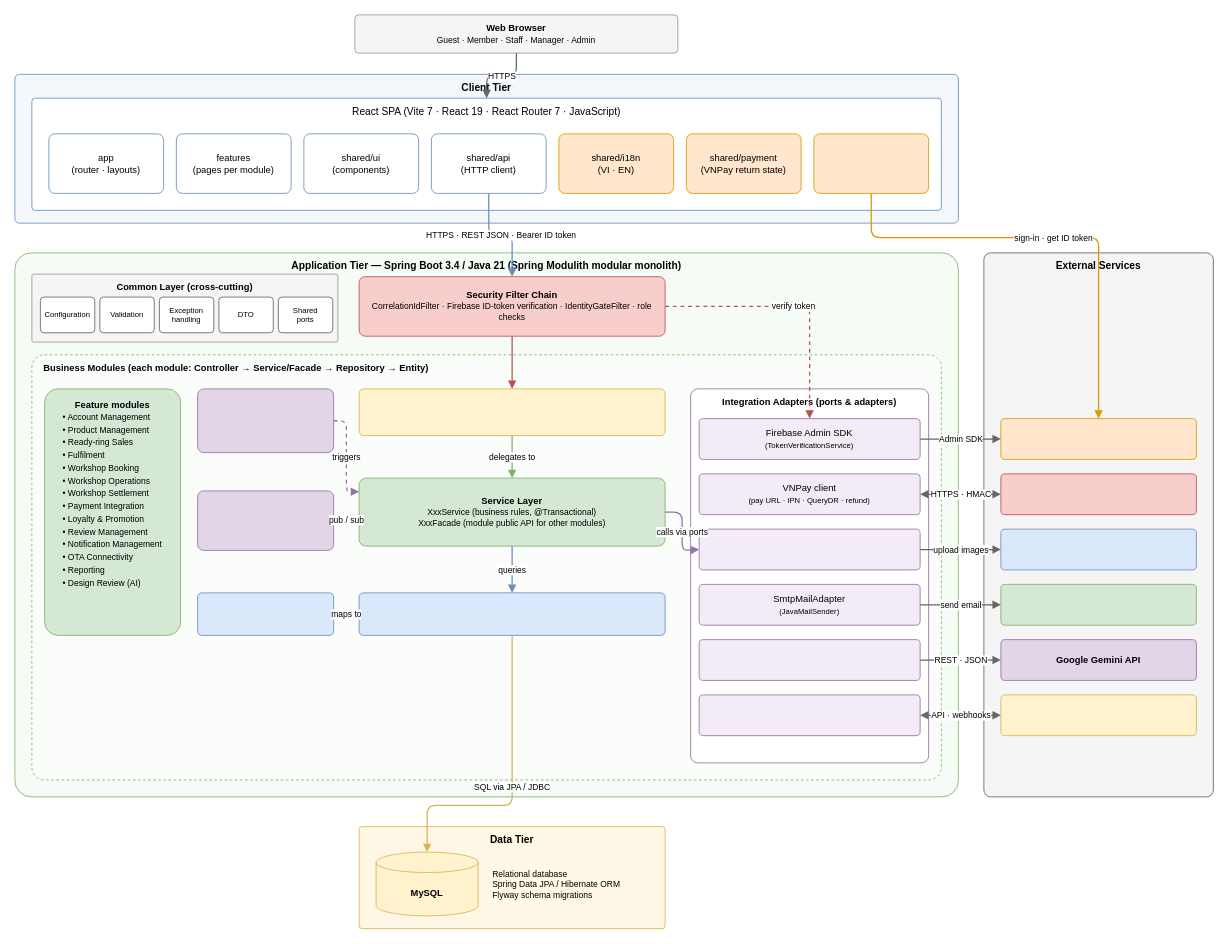
The diagram is 1228 pixels wide and 944 high, and some of its shapes have lost their labels. Each missing label, with the centre of its shape:
"Cloudinary (image storage / CDN)" goes at point 1098,549.
"CloudinaryMediaStorageAdapter" goes at point 809,549.
"Controller Layer @RestController · /api/** · request DTO validation" goes at point 511,412.
"Domain Events Spring Modulith event registry" goes at point 265,520.
"Entity Layer (JPA @Entity)" goes at point 265,613.
"Firebase Authentication" goes at point 1098,438.
"GeminiRestClientAdapter" goes at point 809,659.
"OTA adapters (Klook · GetYourGuide)" goes at point 809,715.
"OTA Platforms (Klook · GetYourGuide)" goes at point 1098,715.
"Repository Layer Spring Data JPA (dao)" goes at point 511,613.
"Scheduled Jobs @Scheduled: hold expiry, QueryDR recovery, data retention" goes at point 265,420.
"shared/auth (Firebase JS SDK)" goes at point 871,163.
"SMTP Mail Server (Gmail SMTP)" goes at point 1098,604.
"VNPay Payment Gateway" goes at point 1098,494.
